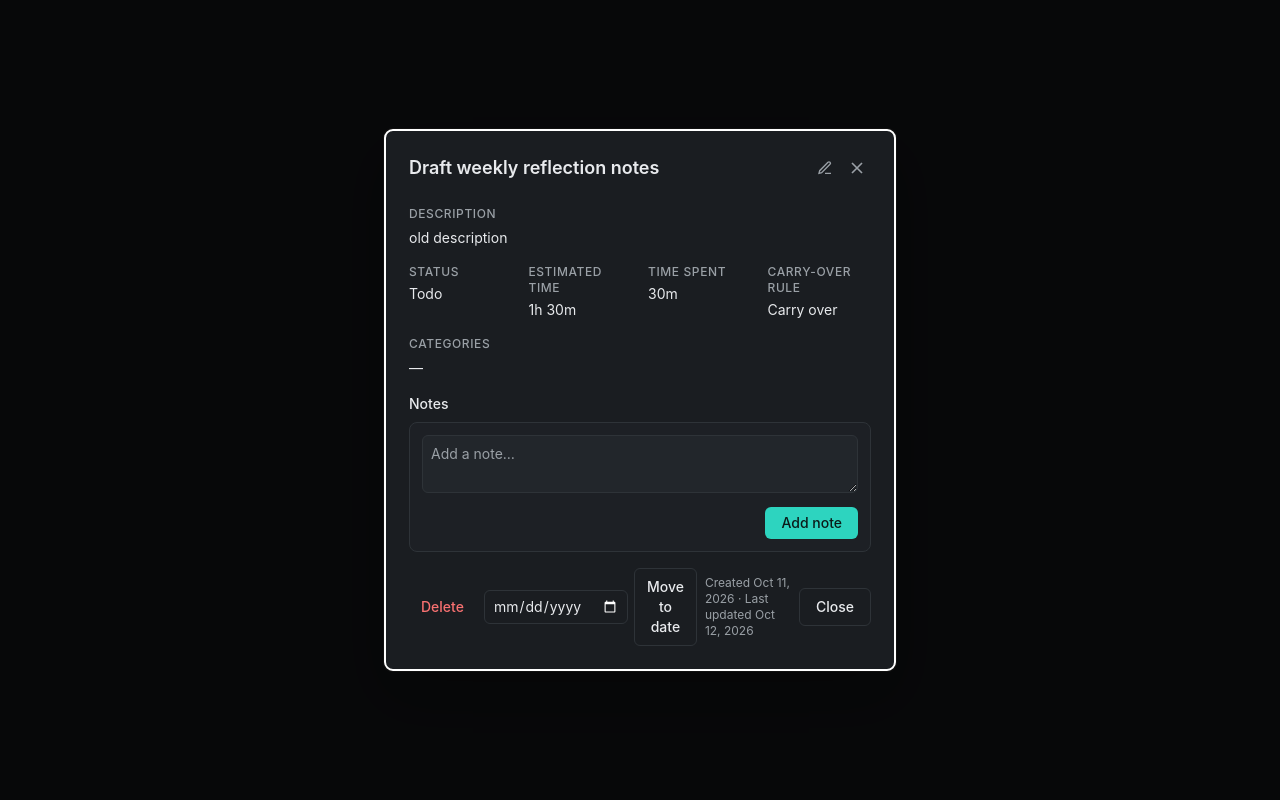
Test: EditTaskDialog › surfaces a mapped server error
Click the button named "Edit" at {"x": 825, "y": 168}, box x1=811 y1=154 x2=839 y2=182
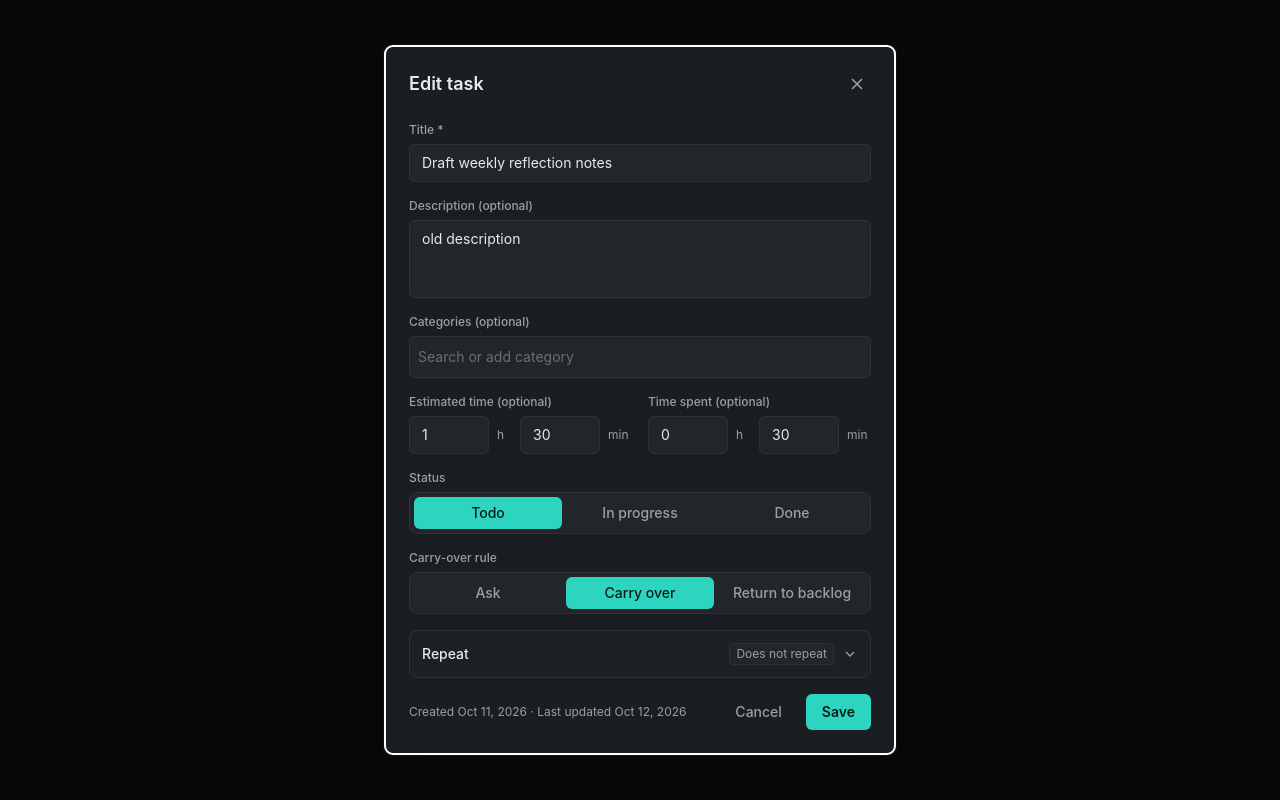
Submit the form named "Save", box x1=409 y1=122 x2=871 y2=730
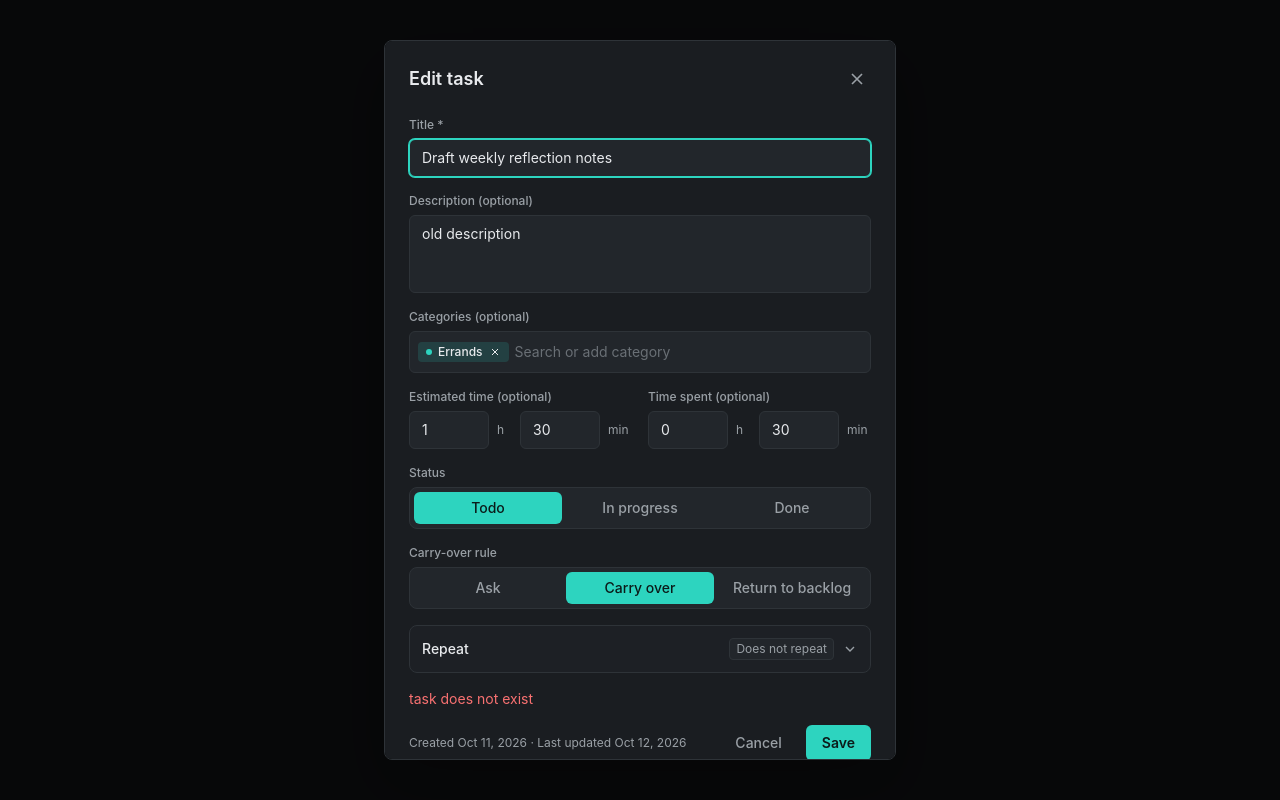
Expected: the message reads "task does not exist", x1=409 y1=690 x2=533 y2=707
